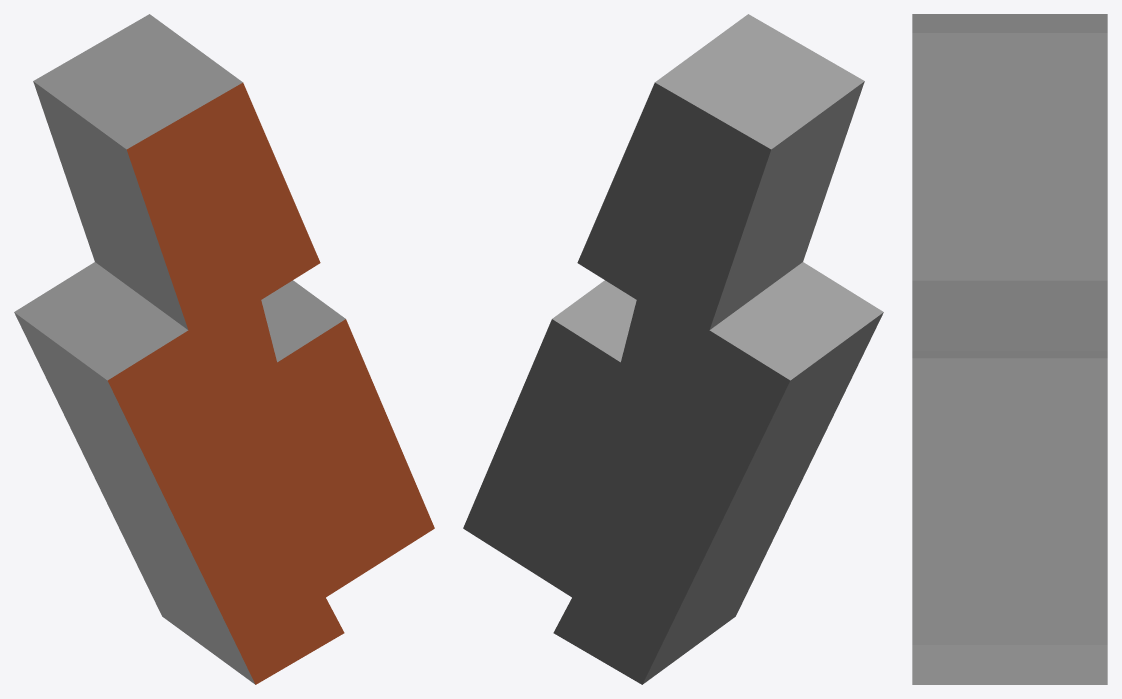
The model's file is construction_2301_assumed_A_Casa_h6m.obj.
3 renders of one model, left to right at view 1: azimuth 30°, elevation 25°; view 2: azimuth 150°, elevation 25°; view 3: azimuth 270°, elevation 25°, orthographic. The views are drawn at different scales.
Parts seen in each view (by area): view 1: construction_2301_assumed_A_Casa; view 2: construction_2301_assumed_A_Casa; view 3: construction_2301_assumed_A_Casa.
Part boxes in pixels (<box>): construction_2301_assumed_A_Casa: <box>14,14,434,684</box>; construction_2301_assumed_A_Casa: <box>463,14,883,684</box>; construction_2301_assumed_A_Casa: <box>912,14,1107,684</box>.
Bounding box in the file's own units: 12.13 × 21.44 × 6.
